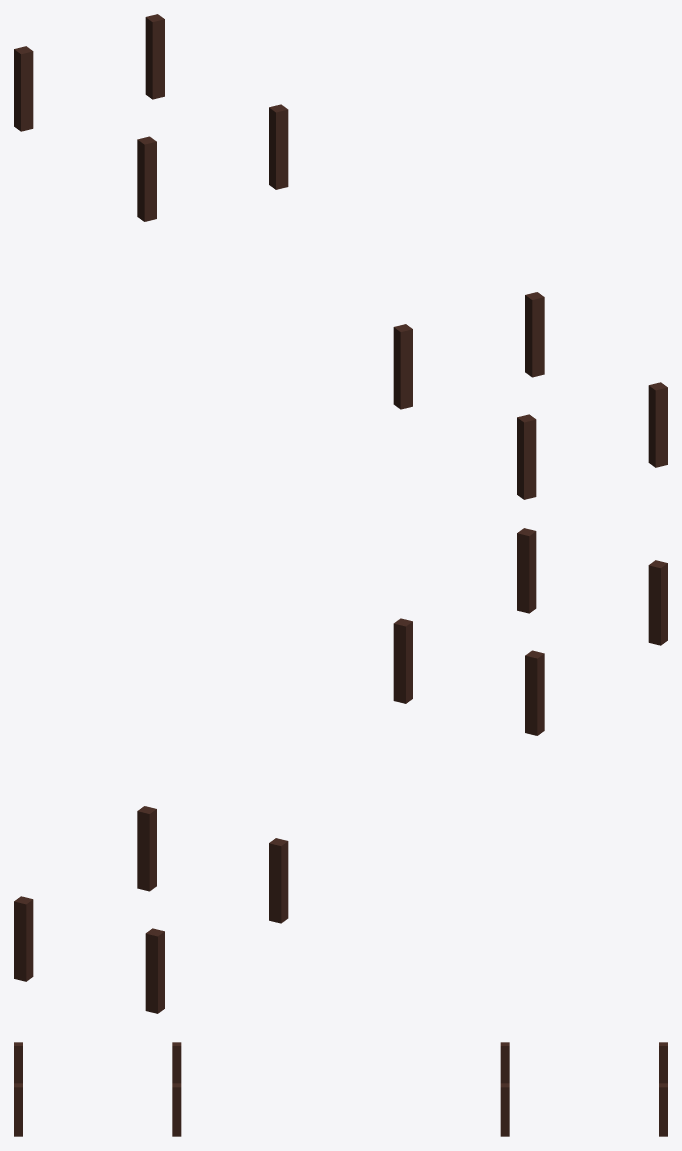
Rendered from LoungeTables_BarWood.fbx.
3 views of the same model, one above another, from view 1: azimuth 30°, elevation 25°; view 2: azimuth 150°, elevation 25°; view 3: azimuth 270°, elevation 25° (orthographic). The views are drawn at different scales.
Visible parts, largest first — view 1: LoungeLeg0-1.6-2.001; view 2: LoungeLeg0-1.6-2.001; view 3: LoungeLeg0-1.6-2.001.
Part boxes in pixels (x1,y1,x2,y2): LoungeLeg0-1.6-2.001: (14,14,667,499); LoungeLeg0-1.6-2.001: (14,528,667,1013); LoungeLeg0-1.6-2.001: (14,1042,667,1136).
Bounding box in the file's own units: 350 × 180 × 2150.
